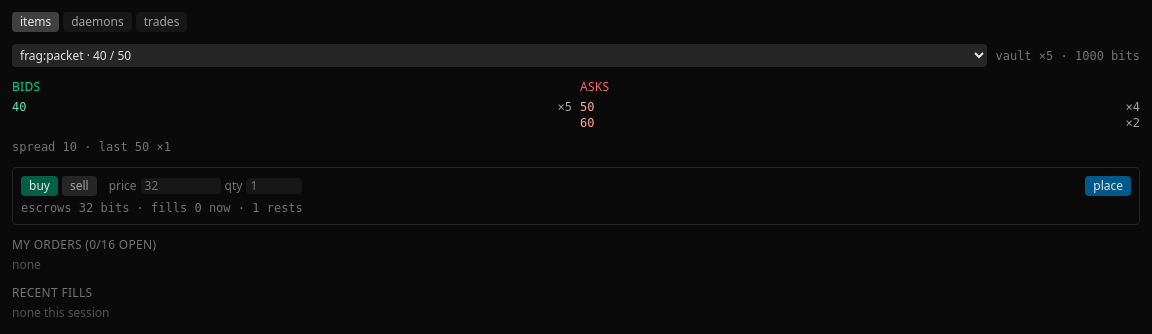
Test: ExchangePanel › shows the book, the vault and the player`s bits; clicking an ask fills the form with a BUY at that price
Expected: the text with test id "exchange-vault" shows "vault ×5", 996,48 -> 1140,64
Expected: the text with test id "exchange-vault" shows "1000 bits", 996,48 -> 1140,64
Step 1. Click the button with test id "ask-60" → (587,123), box 580,115 -> 1140,131
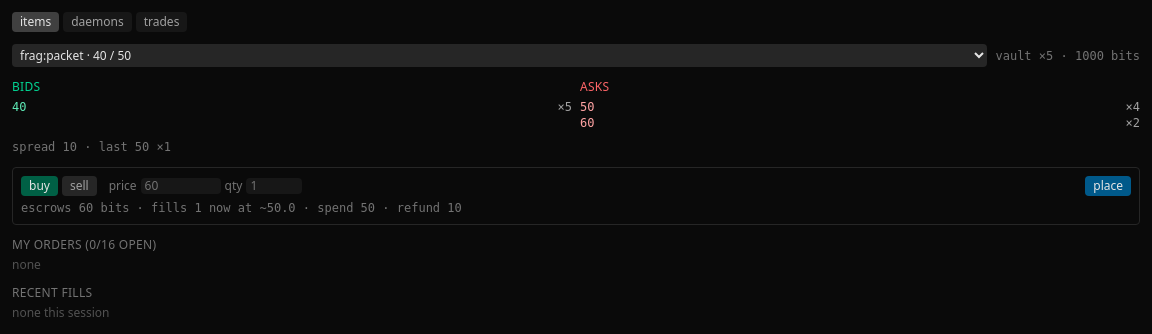
Expected: the number field with test id "order-price" holds "60", 141,178 -> 221,194
